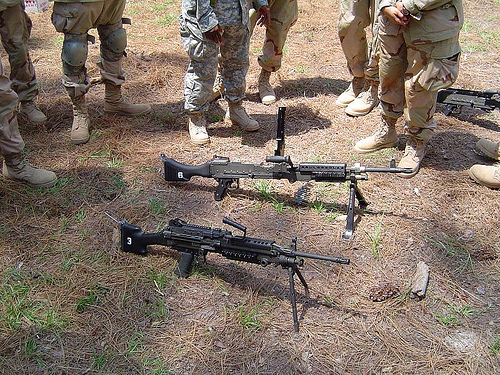rifle: (145, 126, 417, 228), (122, 220, 366, 327)
